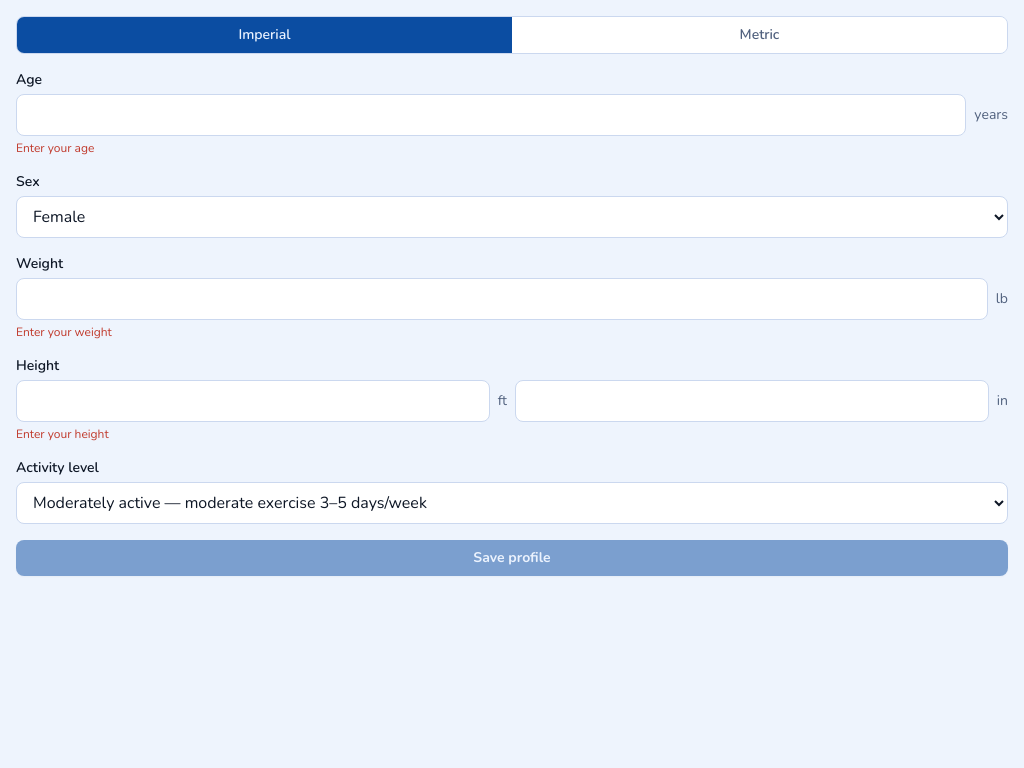
Test case: EatProfileForm › disables save when age is out of range
Step 1. Type "30" into the number field labelled "Age" → (491, 115), box [16,94,966,136]
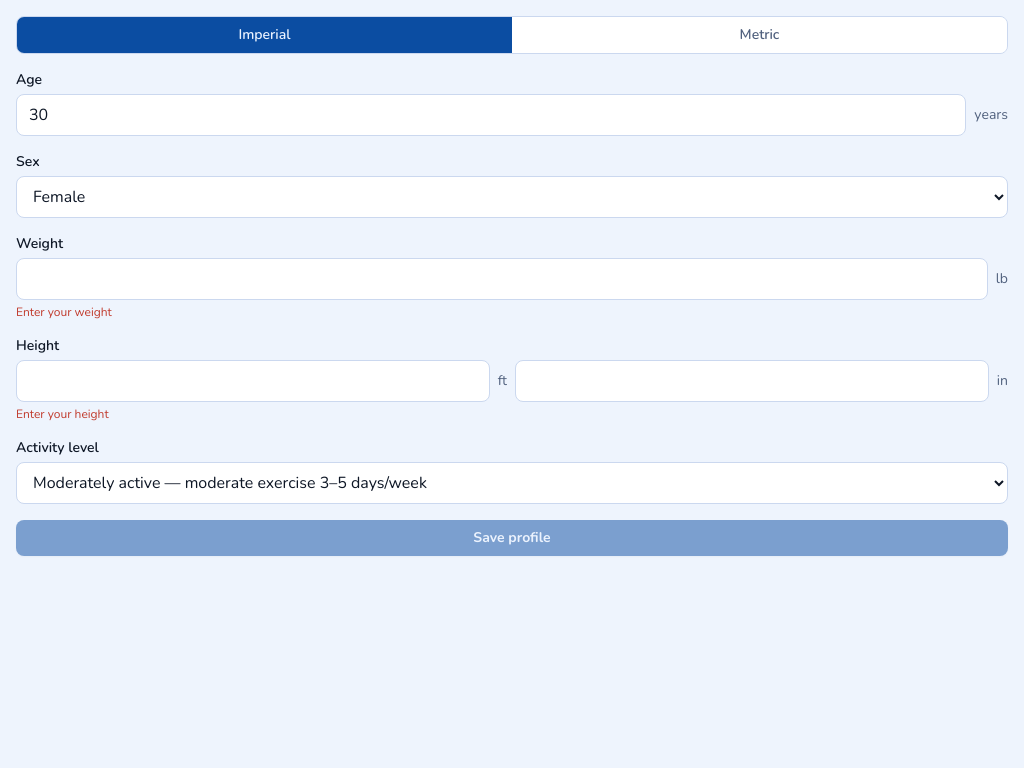
Step 2. Type "154" into the number field labelled "Weight" → (502, 279), box [16,258,988,300]
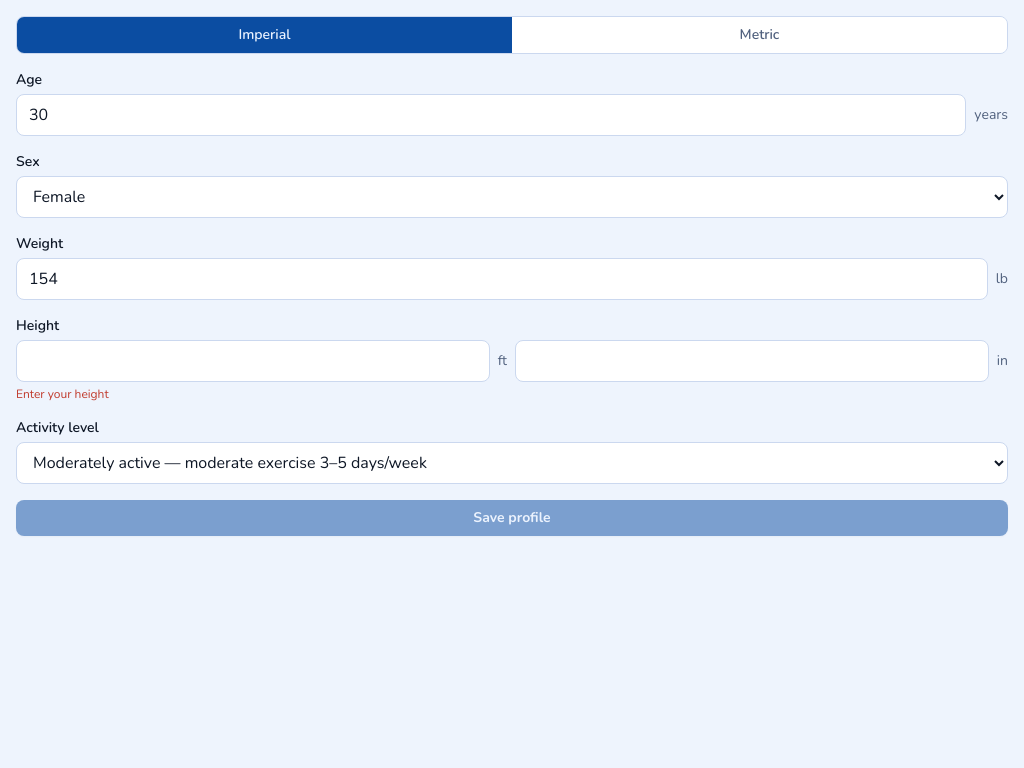
Step 3. Type "5" into the number field named "Height (feet)" → (253, 361), box [16,340,490,382]
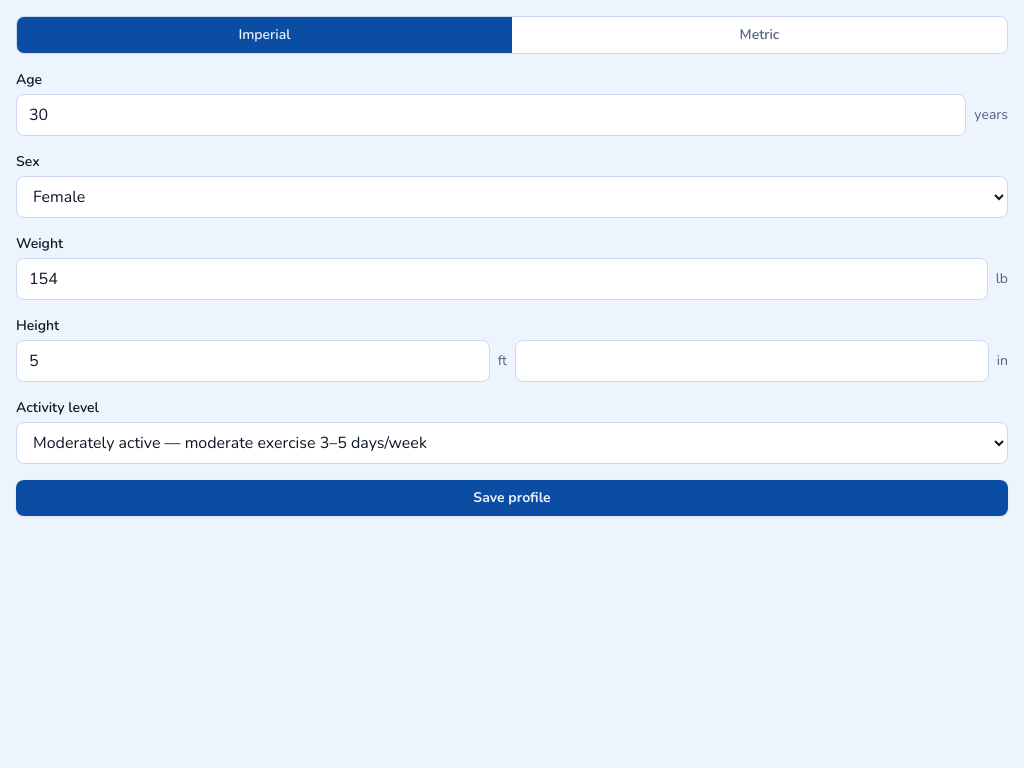
Step 4. Type "9" into the number field named "Height (inches)" → (752, 361), box [515,340,989,382]
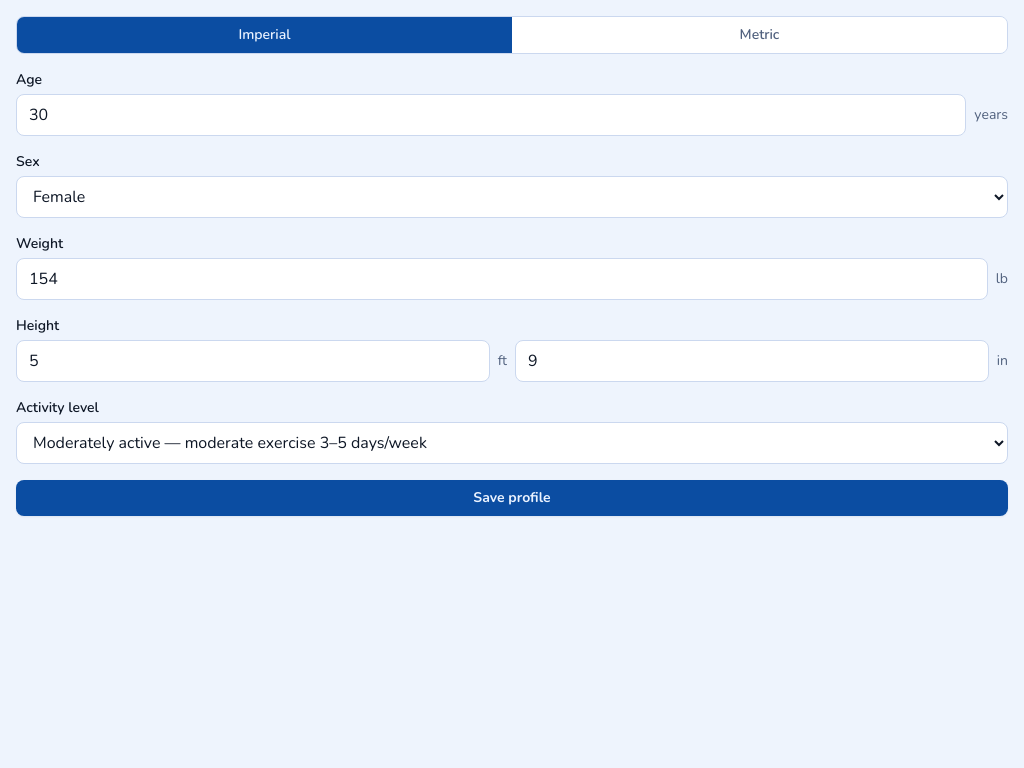
Step 5. Replace the text in the number field labelled "Age" with "5" → (491, 115), box [16,94,966,136]
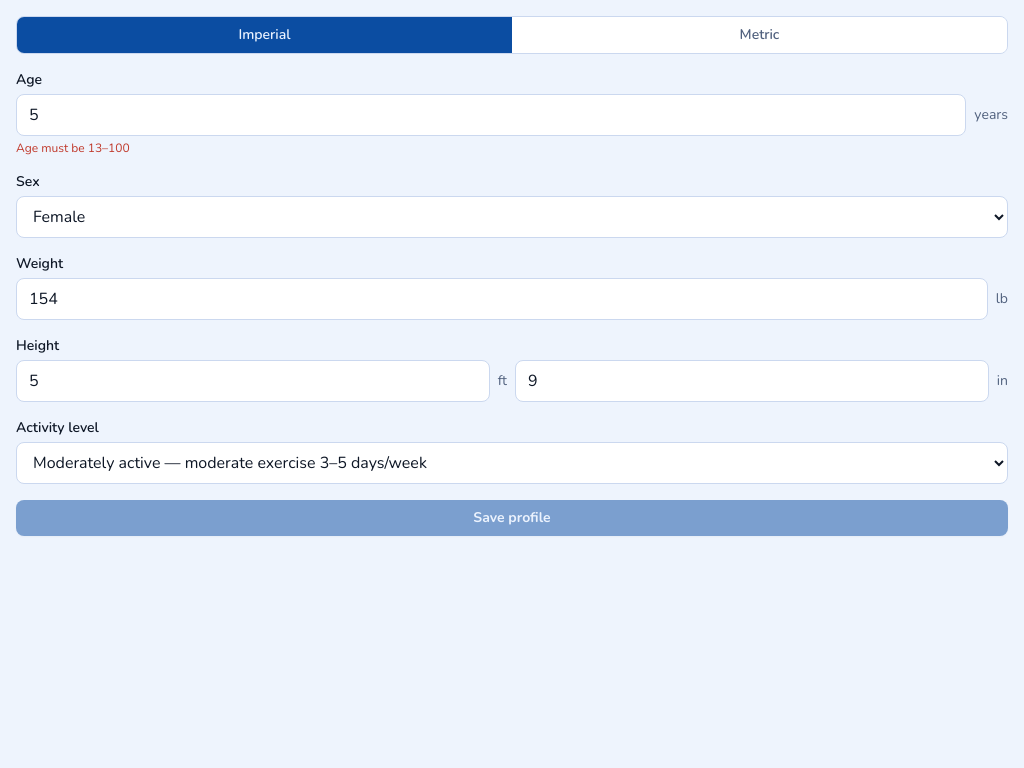
Result: the button "Save profile" is disabled at [16,500,1008,536]
Result: the text "Age must be 13–100" is shown at [16,140,130,156]
